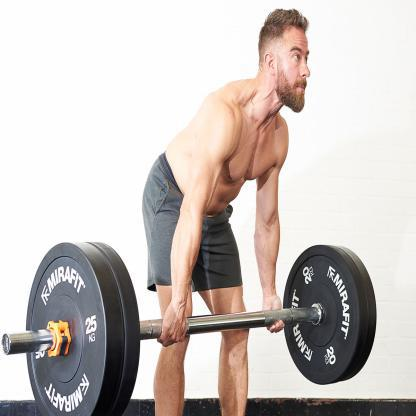Barbell: (15, 232, 157, 415), (280, 239, 379, 388)
